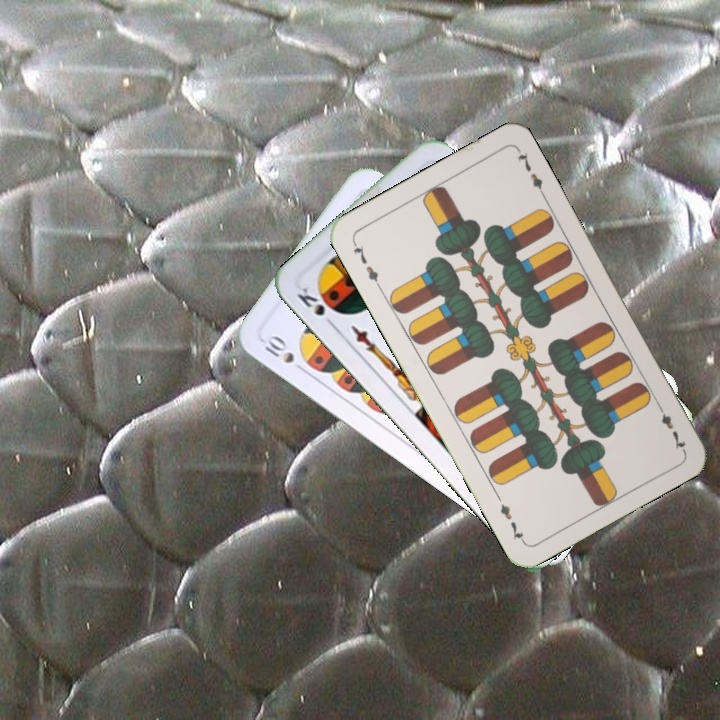E7: (348, 237, 384, 291), (653, 399, 689, 453)
S10: (257, 330, 309, 376)
SK: (292, 283, 341, 331)
